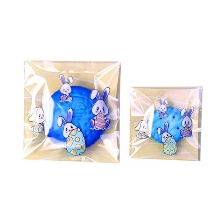snack: (15, 52, 124, 167), (123, 78, 207, 167)
